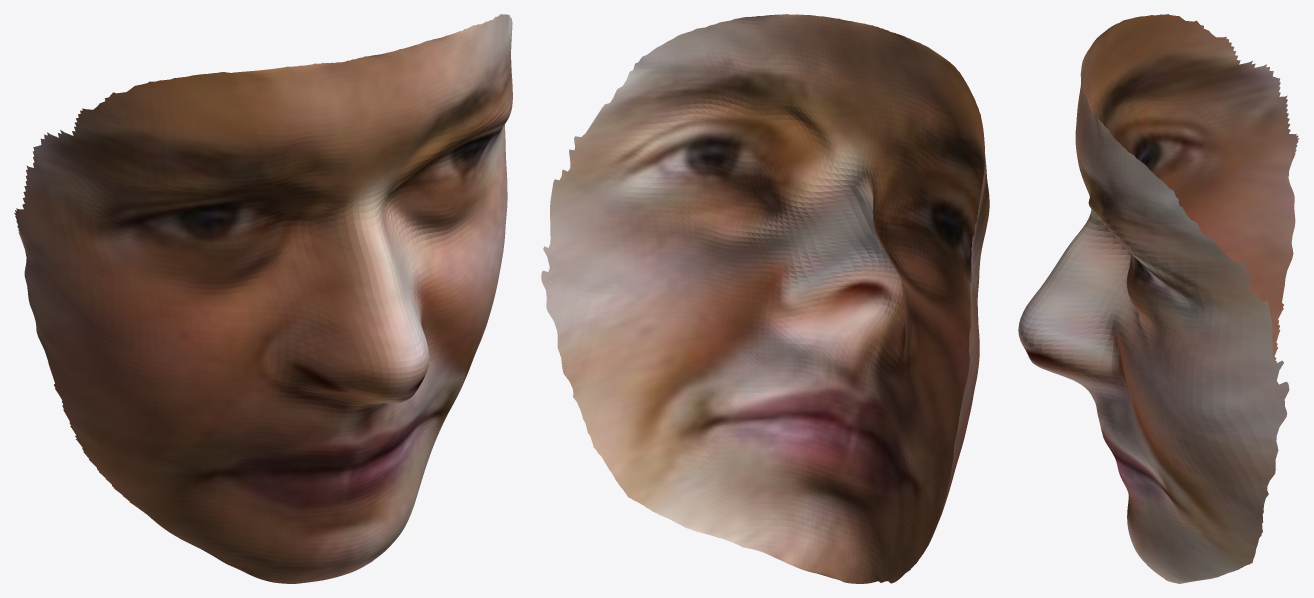
The model's file is goncharuk.obj.
3 views of the same model, side by side, from view 1: azimuth 30°, elevation 25°; view 2: azimuth 150°, elevation 25°; view 3: azimuth 270°, elevation 25° (orthographic). The views are drawn at different scales.
Parts seen in each view (by area): view 1: model2; view 2: model2; view 3: model2.
Part boxes in pixels (x1,y1,x2,y2): model2: [14, 14, 512, 583]; model2: [541, 14, 989, 583]; model2: [1018, 14, 1299, 583].
Bounding box in the file's own units: 99.19 × 113 × 58.4.
